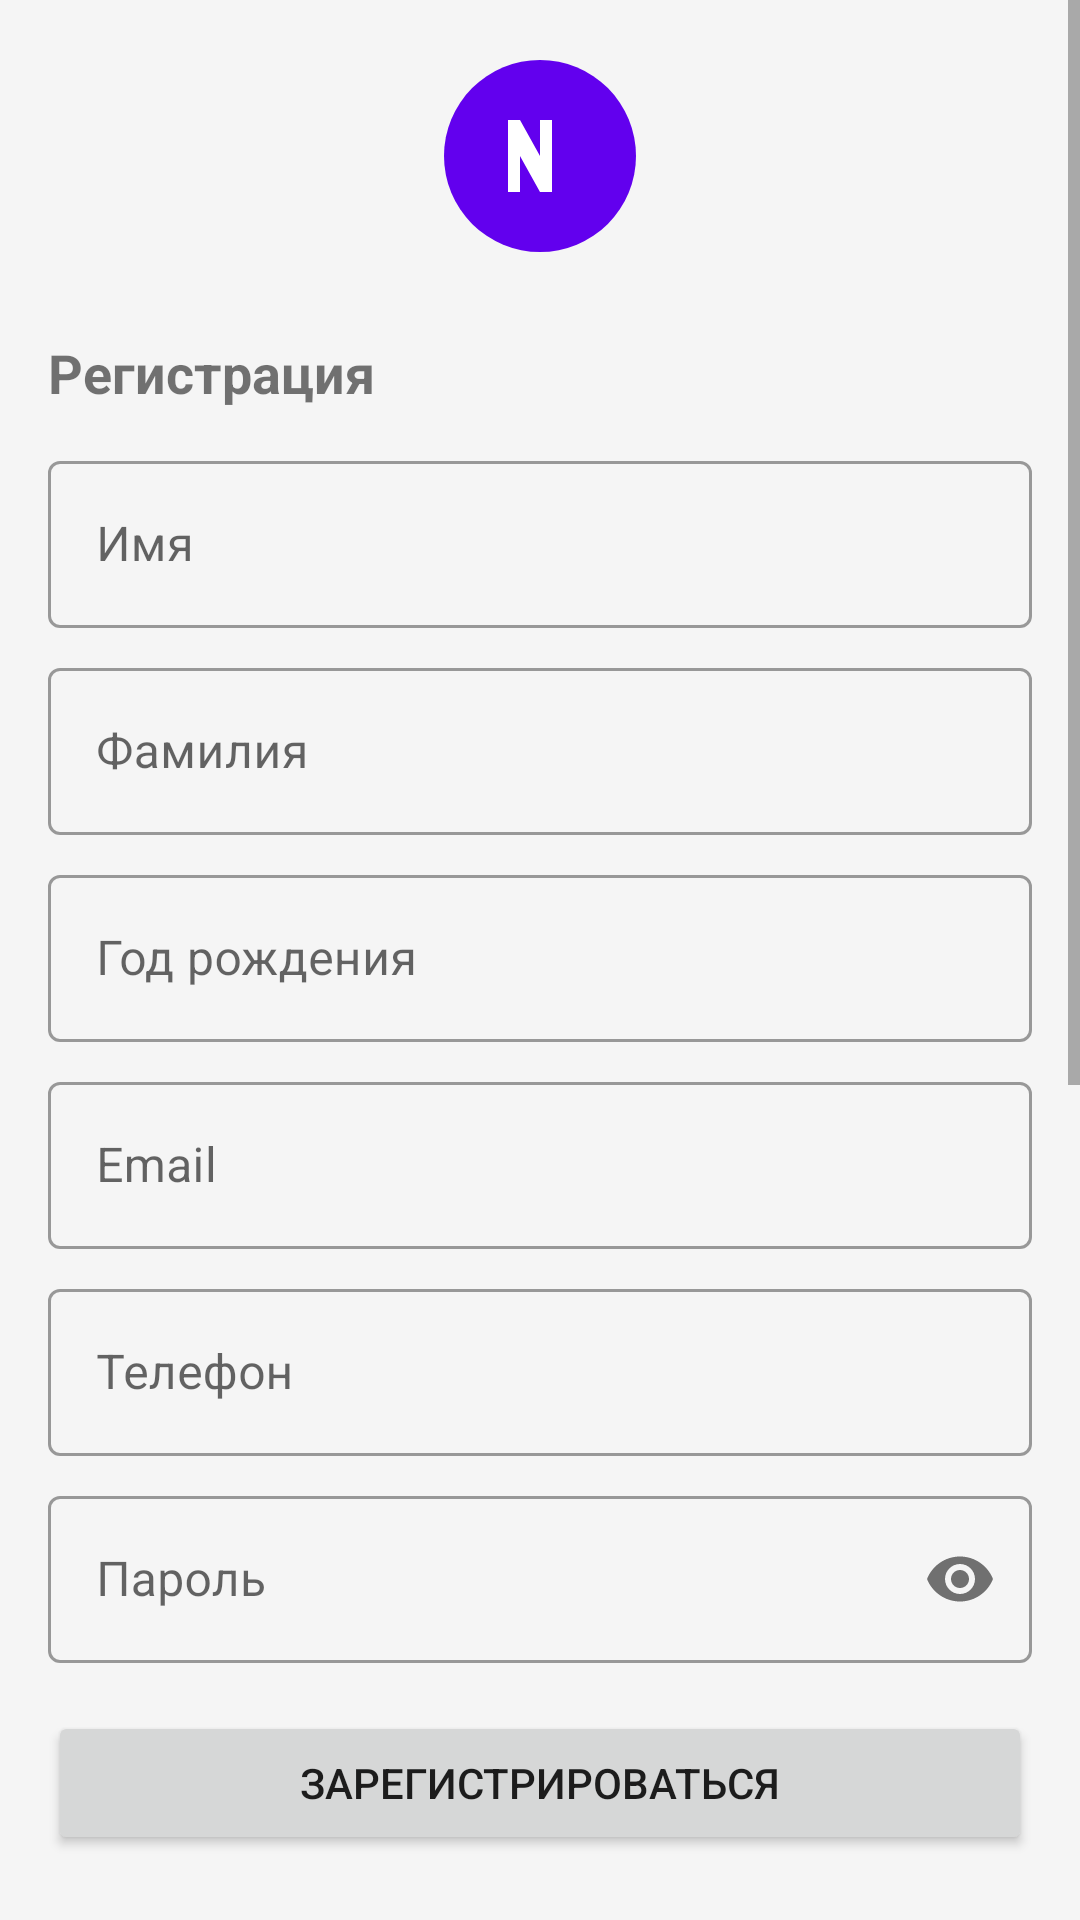

Icon click points for this 1080*1920 phone screenshot, format (x,y):
app: (540,156)
